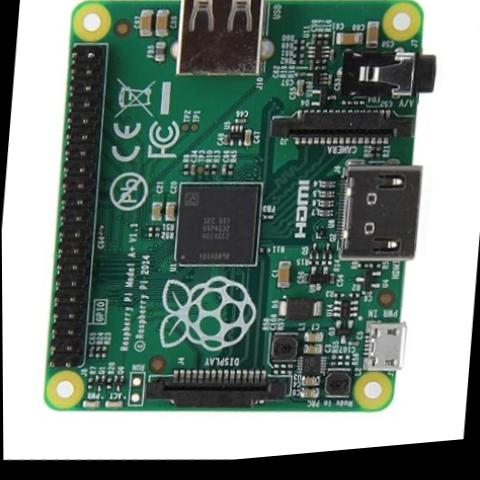Raspberry-Pi-1-Model-A-: (18, 0, 458, 460)
